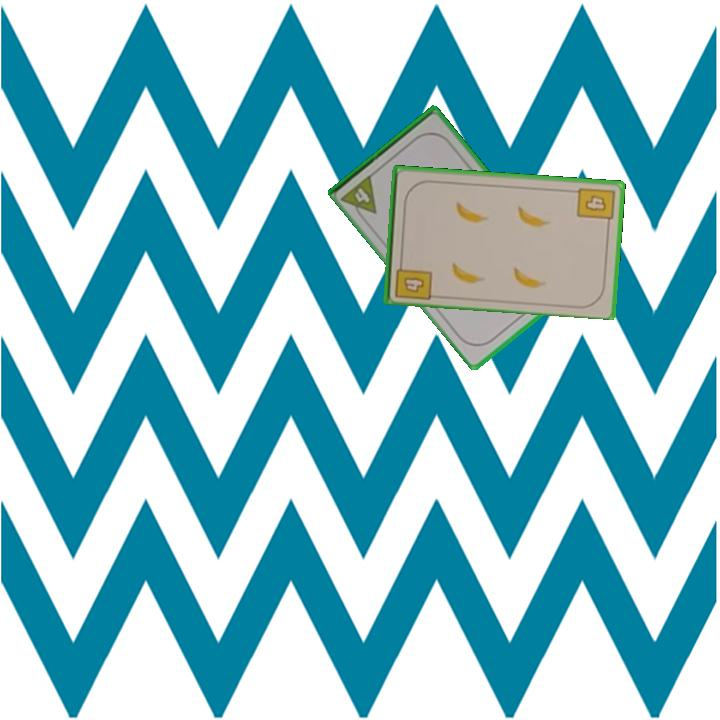4b: (573, 184, 617, 229), (391, 256, 434, 302)
4p: (338, 170, 380, 224)
